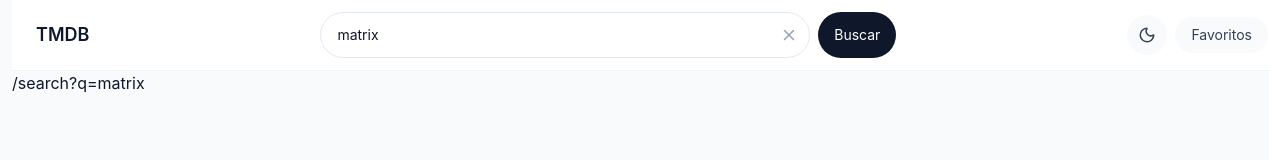
Test case: Header › shows a clear (X) button with text and clears it back to Home
Check: the field with placeholder "Pesquisar filmes..." holds "matrix", box [320, 12, 810, 58]
Click the button named "Limpar busca" at point(789, 35), box [780, 26, 798, 44]
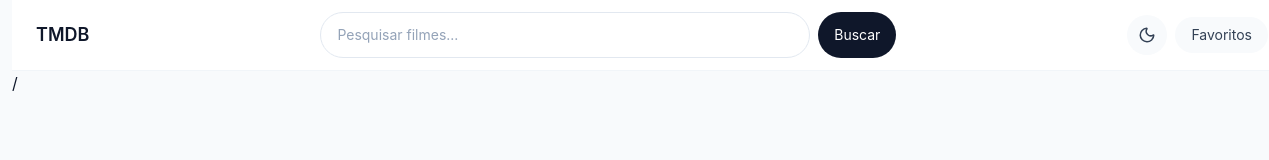
Check: the text with test id "location" reads "/", box [12, 73, 18, 93]
Check: the field with placeholder "Pesquisar filmes..." is empty, box [320, 12, 810, 58]
